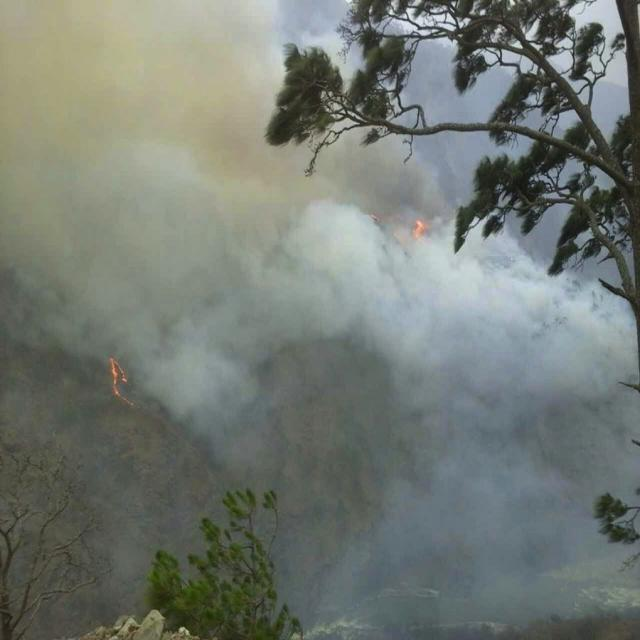Fire: (104, 356, 134, 409), (408, 218, 430, 238)
Smoke: (0, 0, 640, 611)
